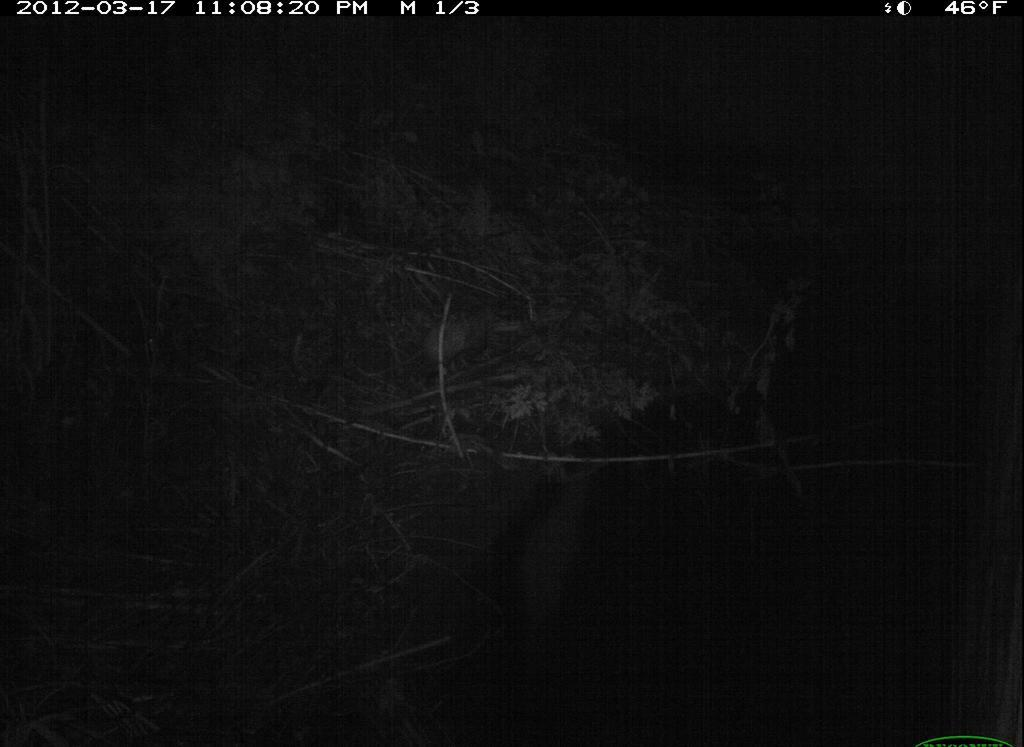opossum: (411, 291, 527, 393)
